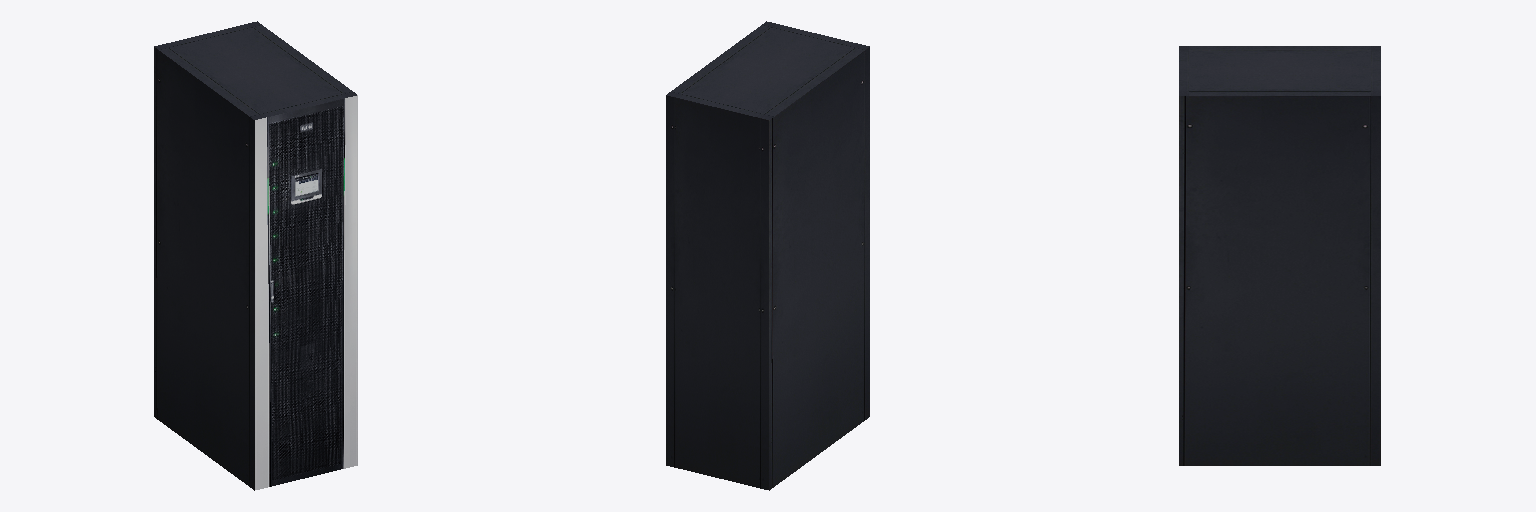
3 renders of one model, left to right at view 1: azimuth 30°, elevation 25°; view 2: azimuth 150°, elevation 25°; view 3: azimuth 270°, elevation 25°, orthographic.
Visible parts, largest first — view 1: ups; view 2: ups; view 3: ups.
Part boxes in pixels (left/top/right/bottom): ups: left=154, top=21, right=357, bottom=490; ups: left=666, top=21, right=869, bottom=490; ups: left=1179, top=46, right=1380, bottom=465.
Size of the model in its own units: 59.94 by 205 by 101.
Materials: 1 (1 with a texture image).